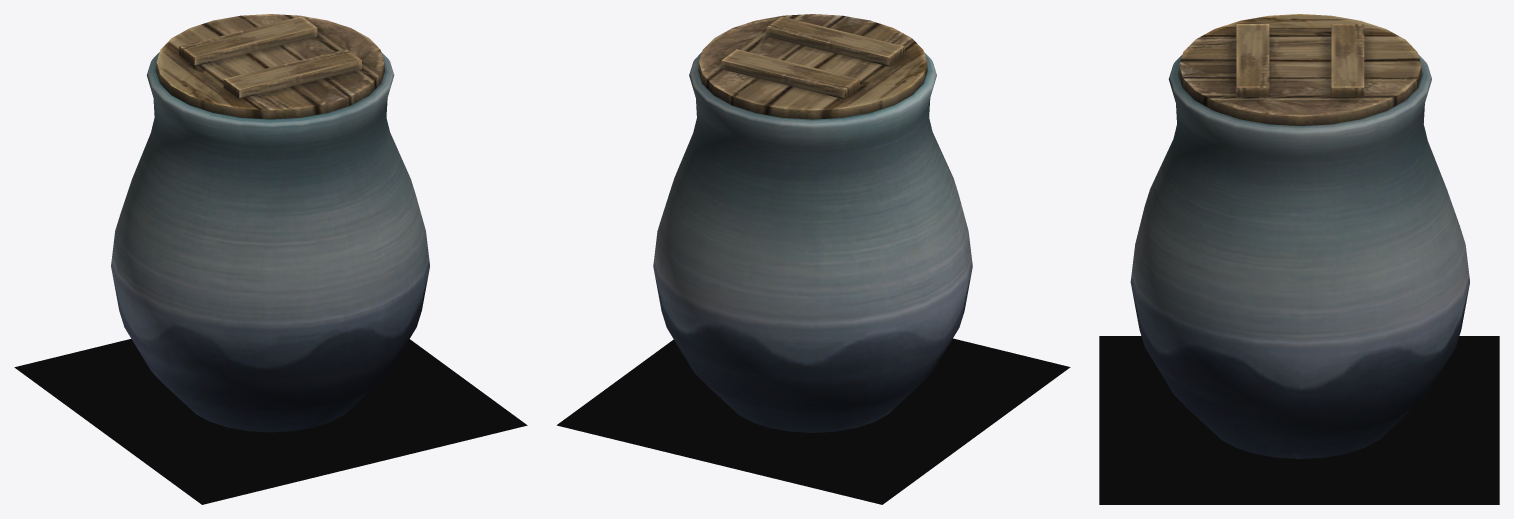
File: blue jar.obj
3 views of the same model, side by side, from view 1: azimuth 30°, elevation 25°; view 2: azimuth 150°, elevation 25°; view 3: azimuth 270°, elevation 25° (orthographic). The views are drawn at different scales.
Parts seen in each view (by area): view 1: mesh01-obj00, mesh00-shadow; view 2: mesh01-obj00, mesh00-shadow; view 3: mesh01-obj00, mesh00-shadow.
Boxes of the visible parts, <box> form: mesh01-obj00: <box>111,14,429,432</box>; mesh00-shadow: <box>14,339,527,504</box>; mesh01-obj00: <box>653,14,972,432</box>; mesh00-shadow: <box>556,338,1070,504</box>; mesh01-obj00: <box>1130,14,1469,458</box>; mesh00-shadow: <box>1099,336,1499,504</box>.
Bounding box in the file's own units: 1.4 × 1.41 × 1.4.
Materials: 2 (2 with a texture image).
